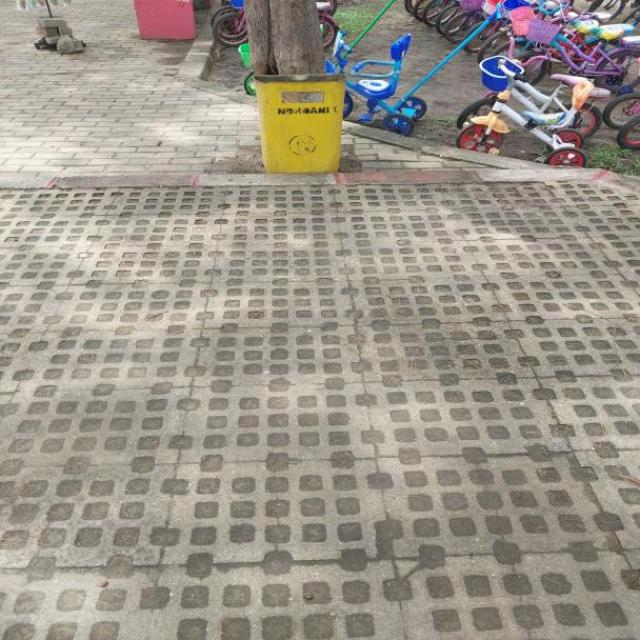dustbin ahead at: (255, 72, 347, 178)
